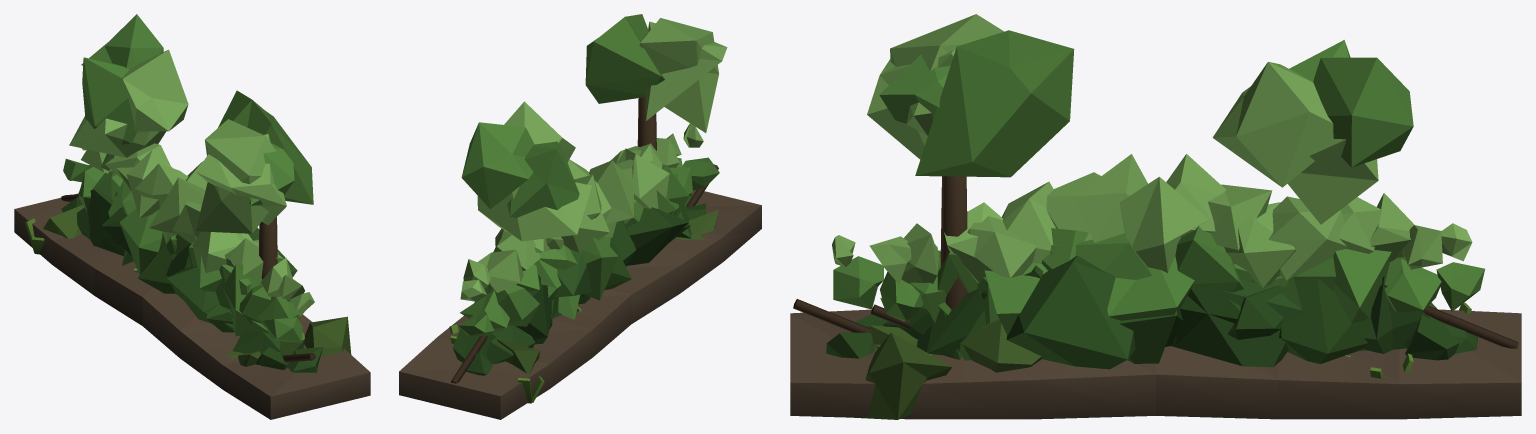
File: hedgerow-run.glb
3 views of the same model, side by side, from view 1: azimuth 30°, elevation 25°; view 2: azimuth 150°, elevation 25°; view 3: azimuth 270°, elevation 25° (orthographic). The views are drawn at different scales.
Visible parts, largest first — view 1: hedgerow_run; view 2: hedgerow_run; view 3: hedgerow_run.
Boxes of the visible parts, left/top/right/bottom form: hedgerow_run: left=14, top=14, right=370, bottom=419; hedgerow_run: left=399, top=14, right=761, bottom=419; hedgerow_run: left=790, top=14, right=1521, bottom=419.
Size of the model in its own units: 1.23 by 2.19 by 4.
